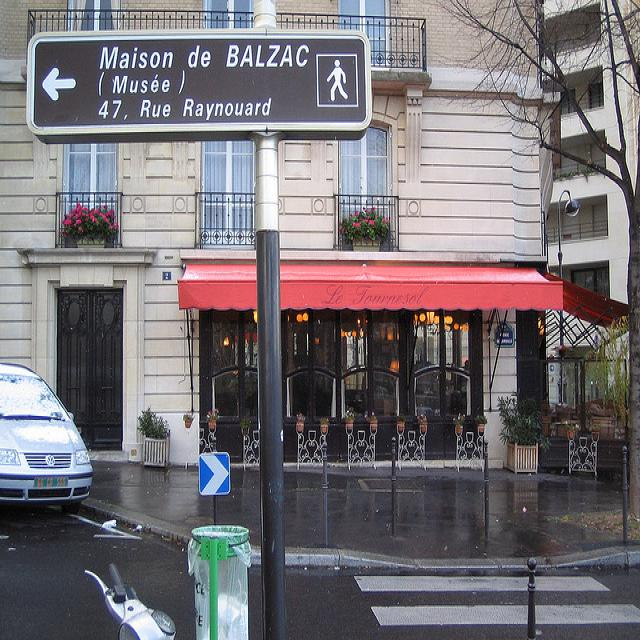motor: (85, 562, 177, 640)
